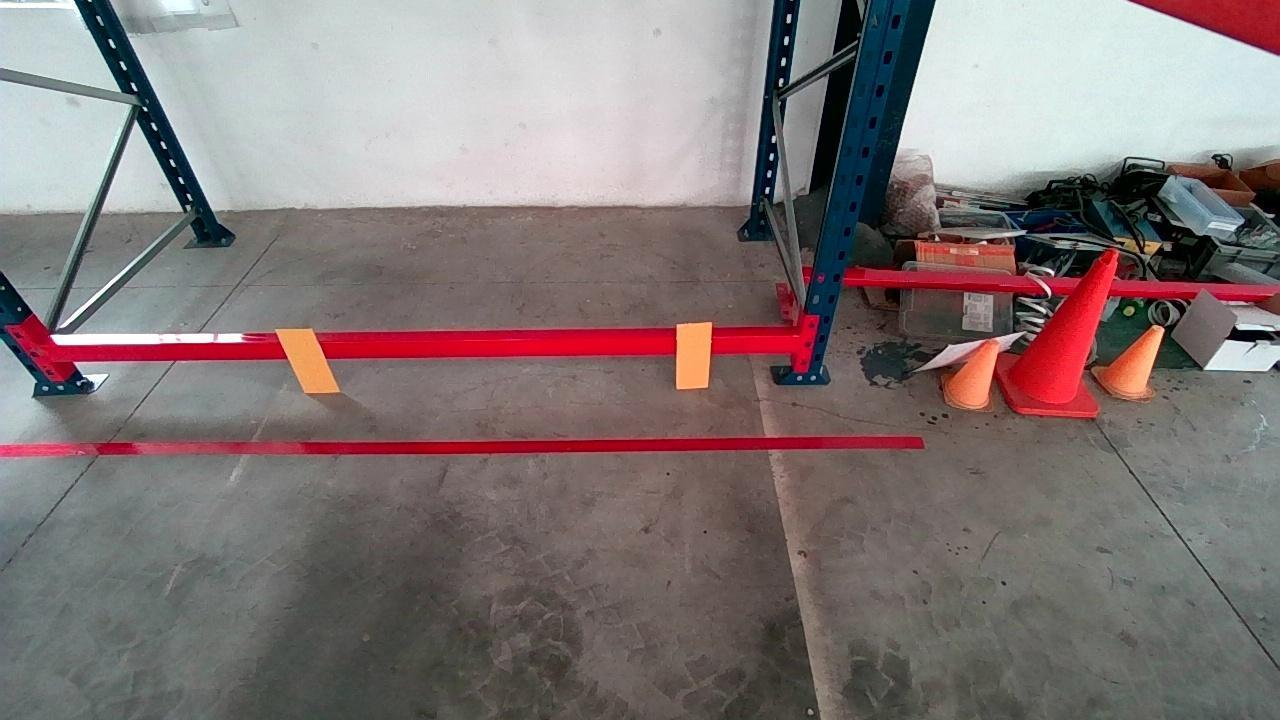h_rack: (38, 326, 802, 366)
orange_strip: (277, 327, 340, 393), (676, 322, 711, 387)
red_line: (0, 435, 922, 453)
